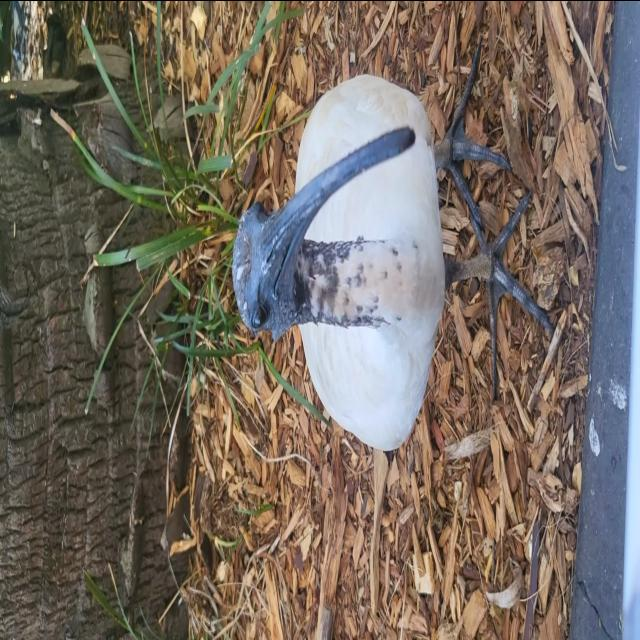Birds-Ibis: (228, 25, 556, 461)
